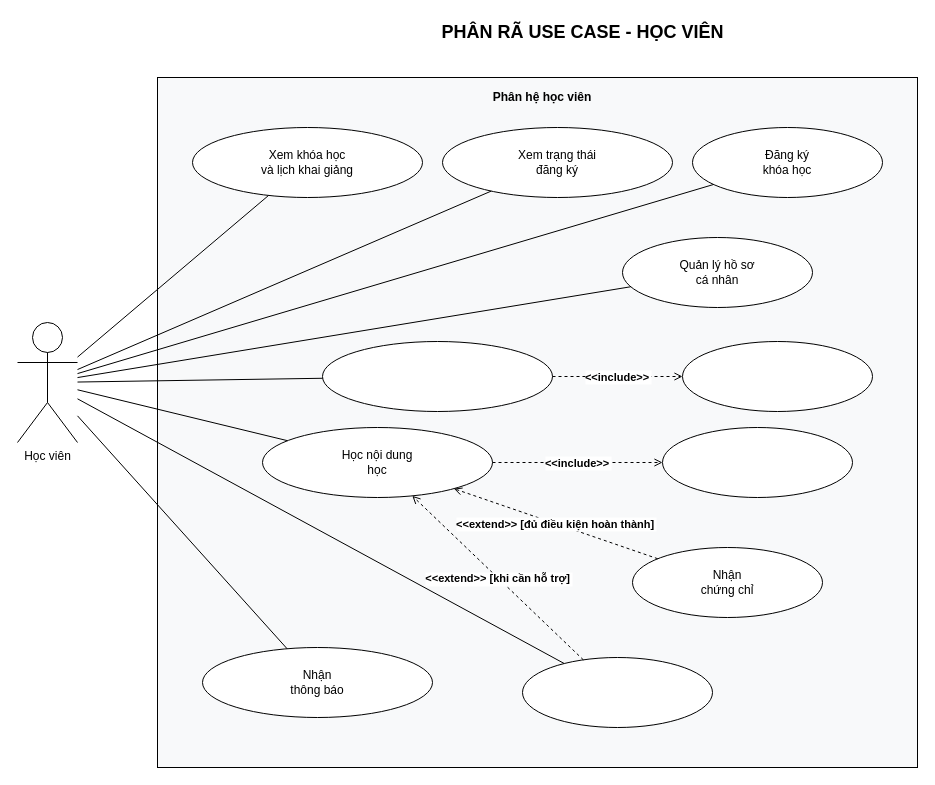
This 935x785 diagram has some shape labels left out. The centre of each missing label's shape, as x and y in pixels:
"Làm bài kiểm tra" belongs at (x=757, y=462).
"Nạp ví điện tử" belongs at (x=777, y=376).
"Quản lý ví / giao dịch" belongs at (x=437, y=376).
"Trợ lý AI" belongs at (x=617, y=692).
